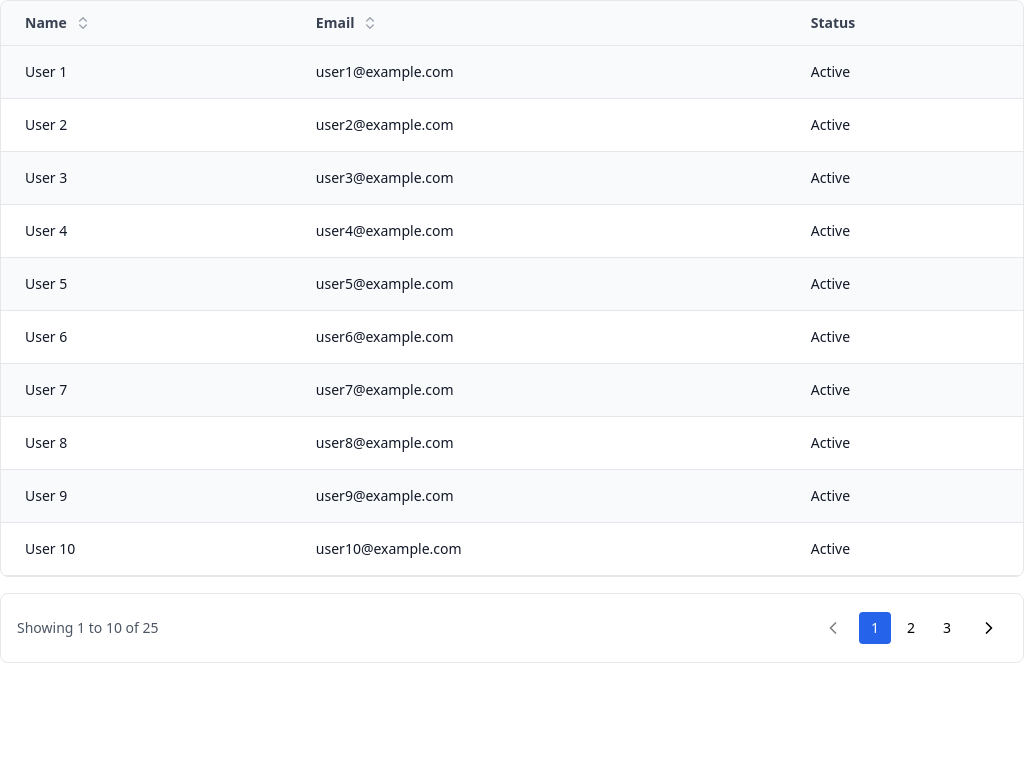
Test case: DataTable Component › should handle pagination
The image size is (1024, 768).
Expected: the text "User 1" is shown, [1,46,292,98]
Expected: the text "User 11" is not shown
Click next page
Click the button named "Next page".
click(989, 628)  # box [971,610,1007,646]
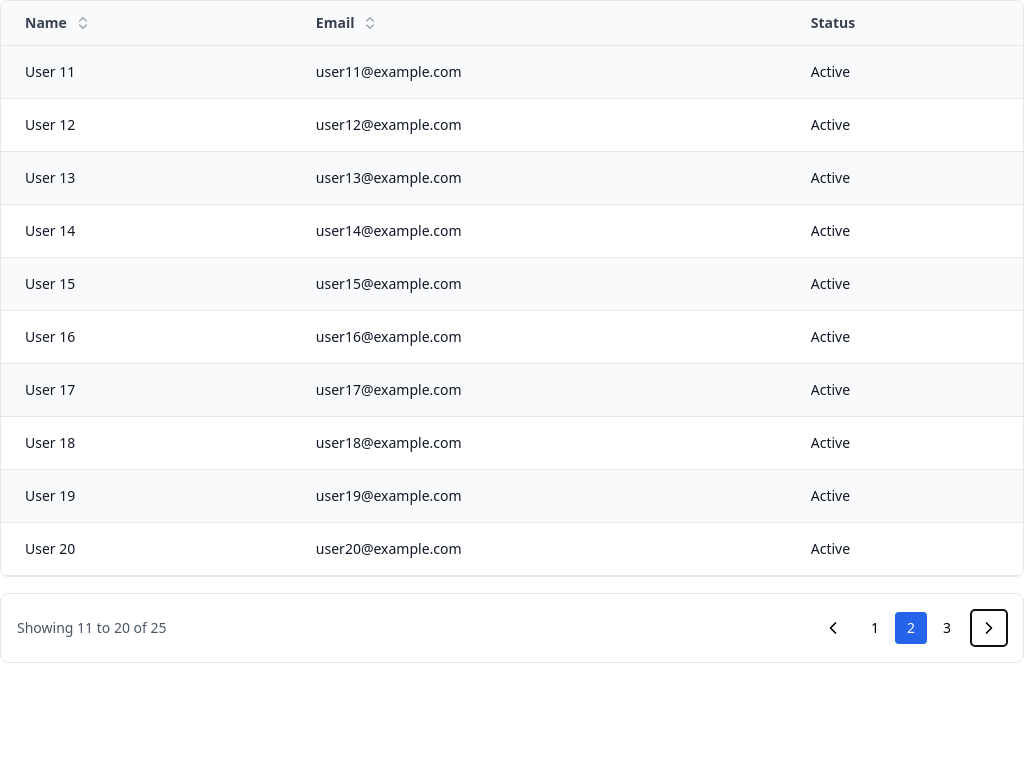
Expected: the text "User 11" is shown, [1,46,292,98]
